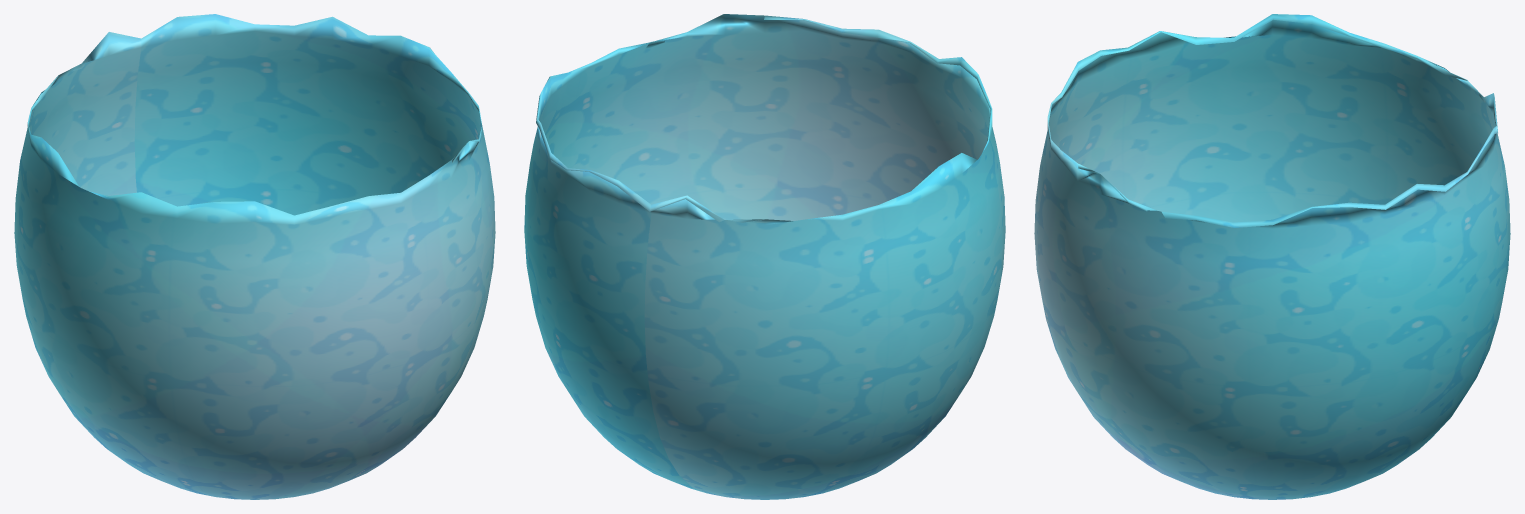
Rendered from dragonEggBtmHalf.fbx.
The picture shows the model from 3 angles, left to right: view 1: azimuth 30°, elevation 25°; view 2: azimuth 150°, elevation 25°; view 3: azimuth 270°, elevation 25°; orthographic projection.
Parts seen in each view (by area): view 1: BezierCircle; view 2: BezierCircle; view 3: BezierCircle.
Part boxes in pixels (x1=…): BezierCircle: x1=14, y1=14, x2=495, y2=499; BezierCircle: x1=524, y1=14, x2=1005, y2=499; BezierCircle: x1=1034, y1=14, x2=1510, y2=499.
Size of the model in its own units: 158 by 134 by 158.
